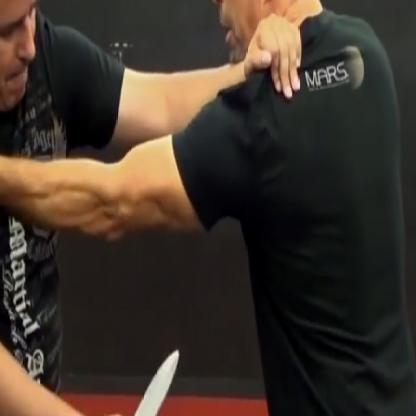knife: (86, 342, 182, 415)
